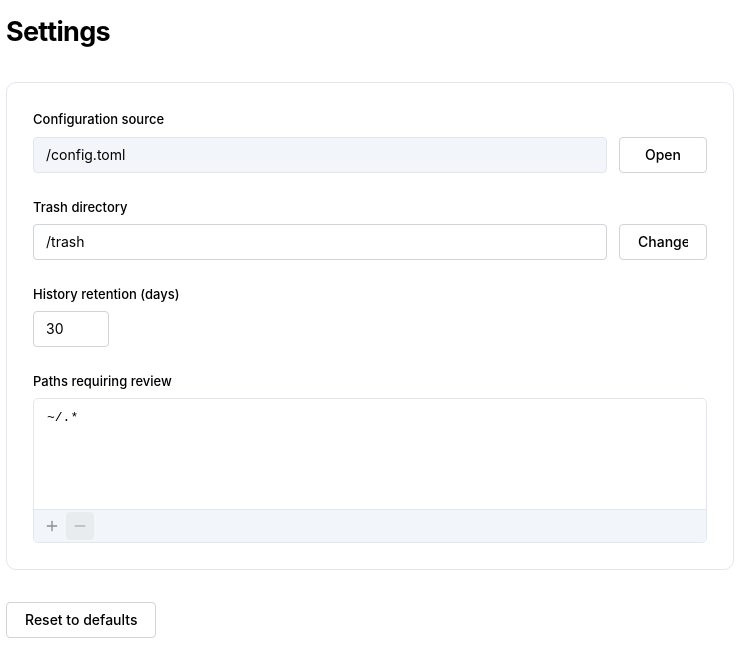
Test: Settings editing › saves the final valid integer after 250 ms and flags invalid input only after blur
Replace the text in the field labelled "History retention (days)" with "4" at coordinates (71, 329), box [33,311,109,347]
Wait 200 ms
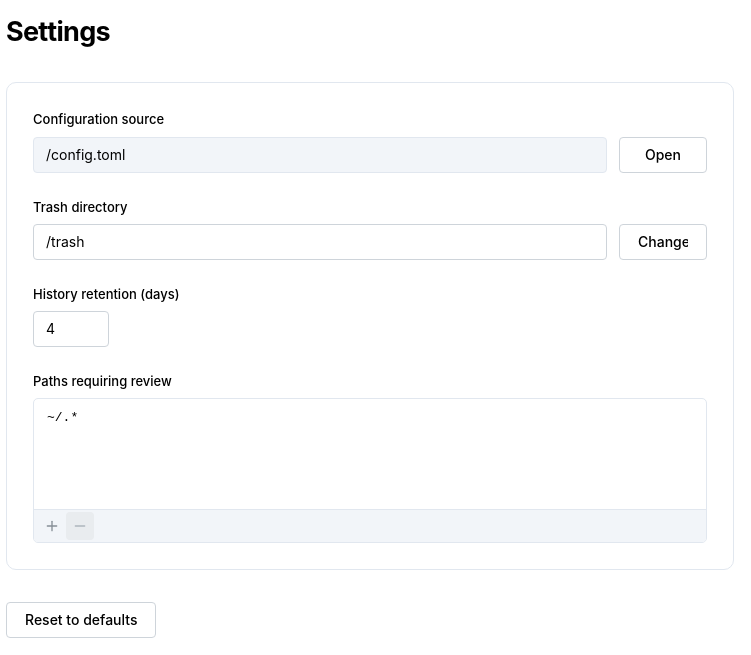
Replace the text in the field labelled "History retention (days)" with "42" at coordinates (71, 329), box [33,311,109,347]
Wait 250 ms
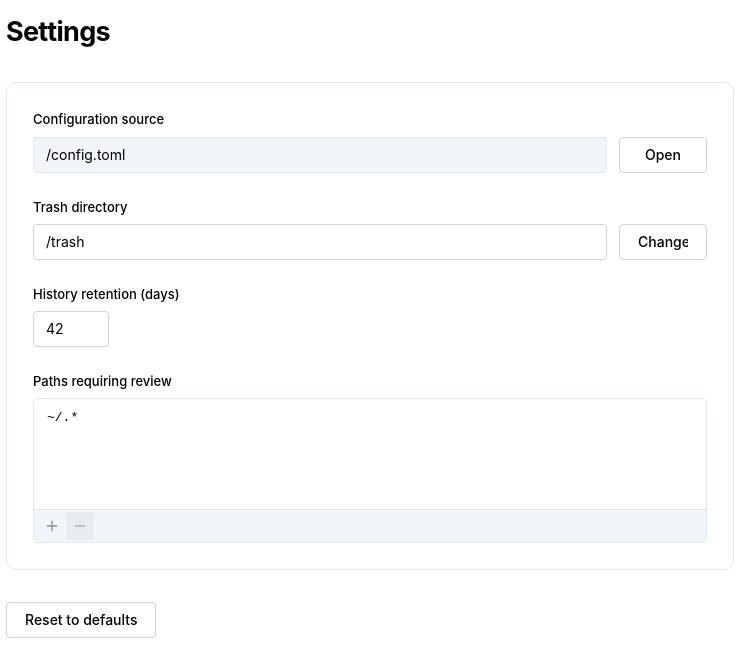
Replace the text in the field labelled "History retention (days)" with "4.2" at coordinates (71, 329), box [33,311,109,347]
Wait 250 ms
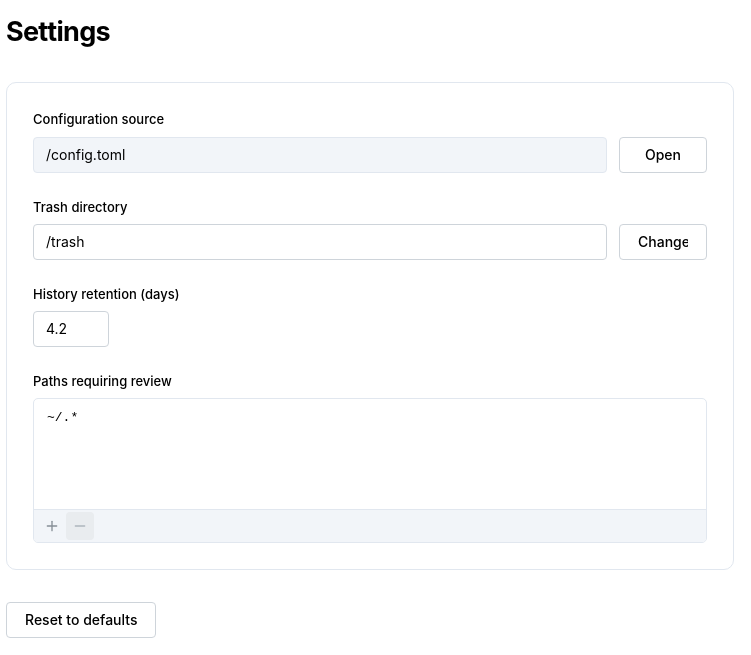
Expected: the text "not a valid number" is not shown
Leave the field labelled "History retention (days)", box [33,311,109,347]
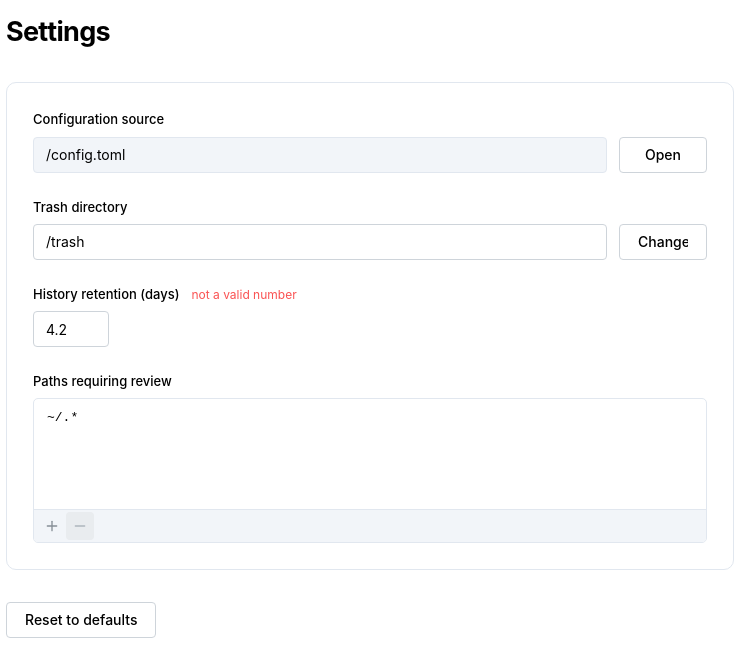
Now the text "not a valid number" is shown, box [192,286,297,304]
